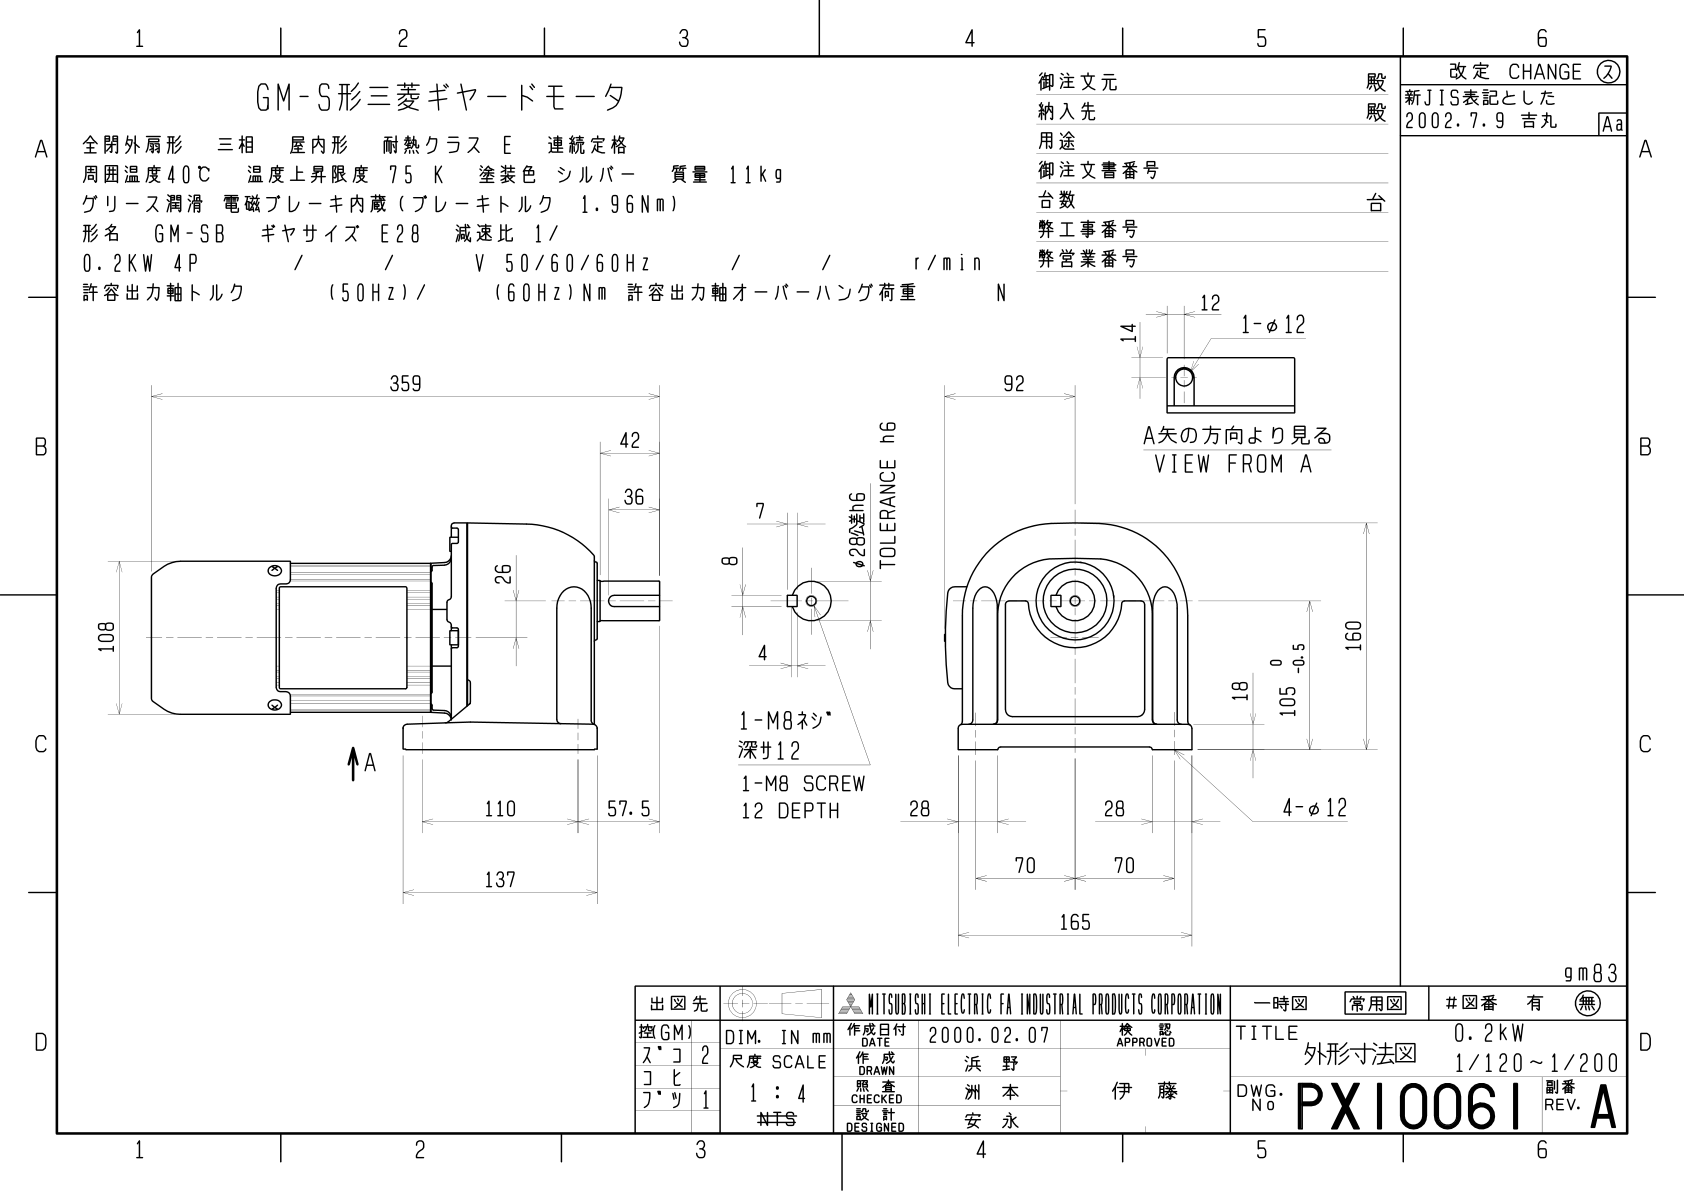GM_S_屋内＿三相_脚: (6, 3, 1684, 1191)
